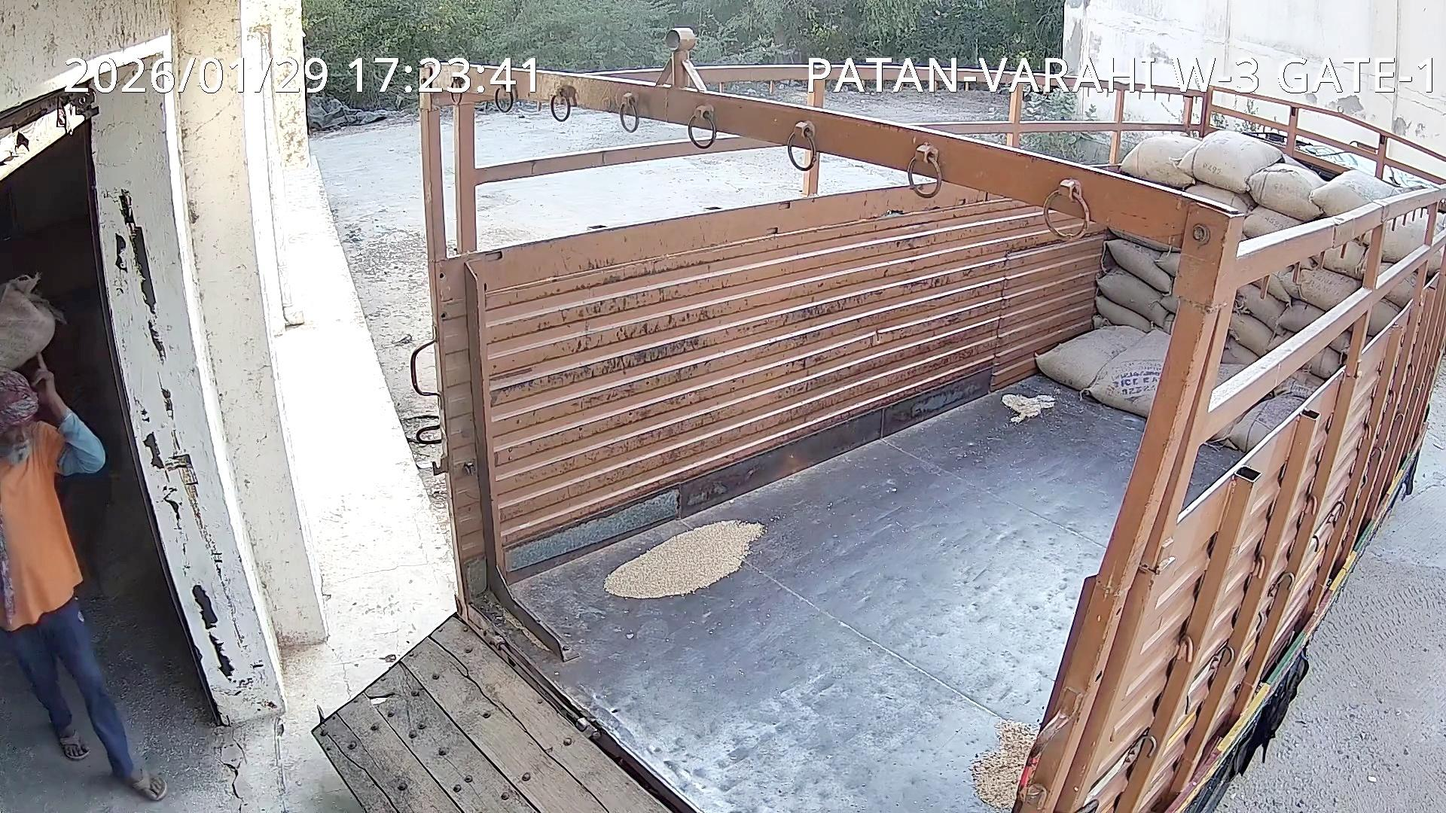Sack: (0, 277, 54, 370)
